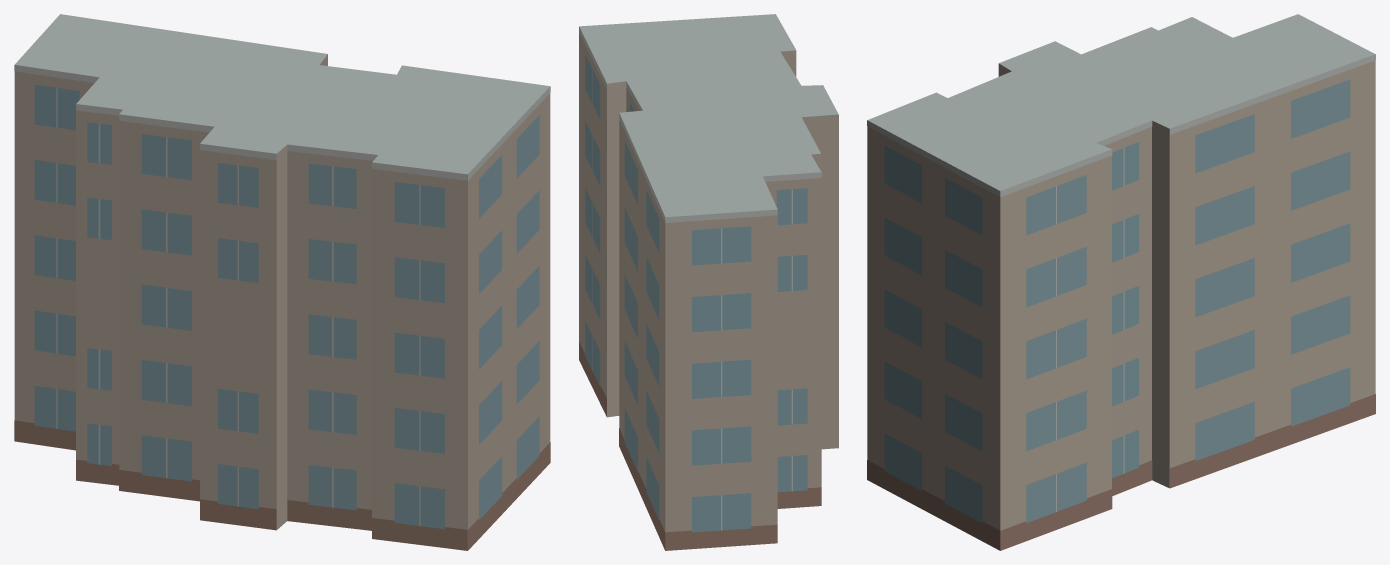
Rendered from survey-upis-32884853.glb.
3 views of the same model, side by side, from view 1: azimuth 30°, elevation 25°; view 2: azimuth 150°, elevation 25°; view 3: azimuth 270°, elevation 25° (orthographic). The views are drawn at different scales.
Visible parts, largest first — view 1: survey-upis-32884853.tmp; view 2: survey-upis-32884853.tmp; view 3: survey-upis-32884853.tmp.
Boxes of the visible parts, left/top/right/bottom form: survey-upis-32884853.tmp: left=14, top=14, right=550, bottom=550; survey-upis-32884853.tmp: left=579, top=14, right=838, bottom=550; survey-upis-32884853.tmp: left=867, top=14, right=1375, bottom=550.
Bounding box in the file's own units: 15.01 × 14.2 × 18.2.
